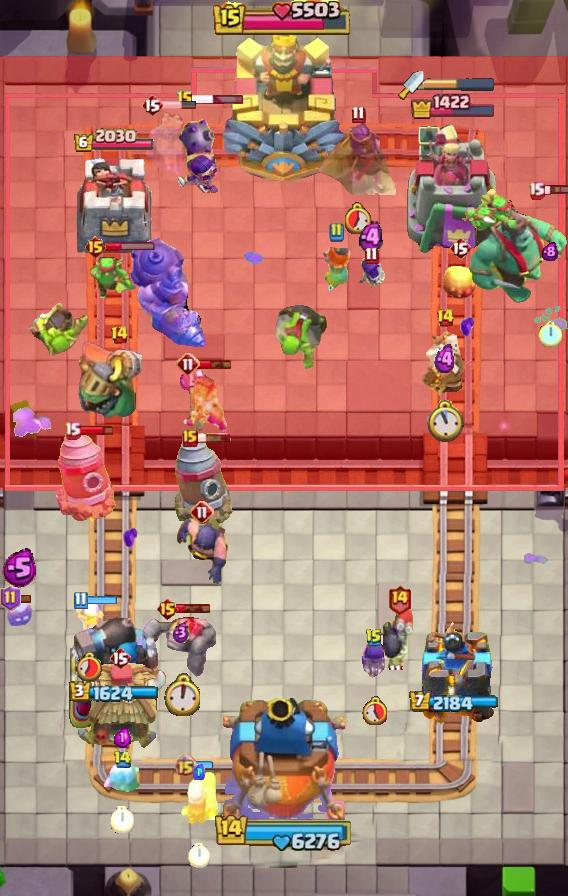bar: (406, 122, 500, 256)
bar-level: (272, 302, 330, 374)
barbarian-hut: (313, 121, 403, 195)
bat: (103, 761, 141, 795)
bomber: (5, 599, 33, 627)
clock: (214, 812, 354, 852), (213, 0, 355, 38)
electro-spirit: (2, 548, 37, 588), (359, 222, 383, 254), (434, 345, 457, 376), (114, 728, 131, 749), (173, 621, 189, 643), (542, 243, 558, 261), (193, 764, 205, 780)
elixir: (427, 400, 464, 443), (164, 673, 201, 716), (76, 651, 105, 682), (345, 202, 372, 234), (362, 696, 387, 725), (110, 806, 134, 834), (538, 321, 562, 348), (188, 843, 210, 868)
elixir-collector: (419, 325, 471, 405)
emote: (192, 94, 244, 105), (104, 241, 155, 252), (78, 424, 114, 437), (197, 358, 233, 370), (195, 432, 231, 444), (176, 602, 211, 613), (85, 595, 119, 606), (161, 100, 197, 110), (542, 184, 568, 196), (12, 593, 32, 604), (194, 761, 214, 772)
giant-snowball: (88, 252, 136, 298)
goblin: (355, 255, 387, 293), (359, 641, 389, 679)
goblin-ball: (174, 102, 222, 198)
heal-spirit: (73, 598, 105, 634)
hog: (443, 262, 477, 300)
hog-rider: (317, 242, 355, 294)
ice-golem: (383, 604, 415, 670)
king-tower: (220, 21, 348, 181), (223, 698, 345, 826)
king-tower-bar: (424, 77, 496, 91)
lava-hound: (462, 187, 568, 305)
magic-archer: (56, 428, 116, 522), (174, 435, 234, 529)
monk: (175, 516, 229, 586)
mortar-evolution: (142, 110, 198, 176)
night-witch: (75, 336, 163, 420)
prince: (73, 661, 167, 751)
queen-tower: (411, 619, 495, 731), (74, 157, 154, 256)
selected: (411, 93, 498, 120), (408, 690, 498, 714), (73, 128, 155, 154), (69, 680, 159, 703)
tesla-evolution: (177, 367, 229, 435)
text: (387, 585, 412, 616), (176, 352, 200, 376), (190, 500, 214, 524), (84, 235, 107, 259), (157, 597, 180, 621), (175, 755, 198, 778), (141, 93, 163, 117), (449, 236, 471, 260), (109, 646, 131, 670), (0, 585, 20, 611), (436, 308, 455, 328), (111, 325, 130, 345), (113, 750, 132, 769), (176, 90, 194, 110), (365, 628, 383, 648), (527, 181, 545, 200), (64, 421, 81, 440), (328, 222, 344, 242), (182, 429, 198, 447), (365, 246, 380, 265), (351, 105, 366, 123), (73, 591, 87, 609)
tombstone: (178, 769, 220, 827)
tower-bar: (68, 611, 160, 731)
valkyrie-evolution: (142, 613, 220, 677)
wizard: (127, 236, 209, 350)
x-bow: (27, 301, 90, 357)
